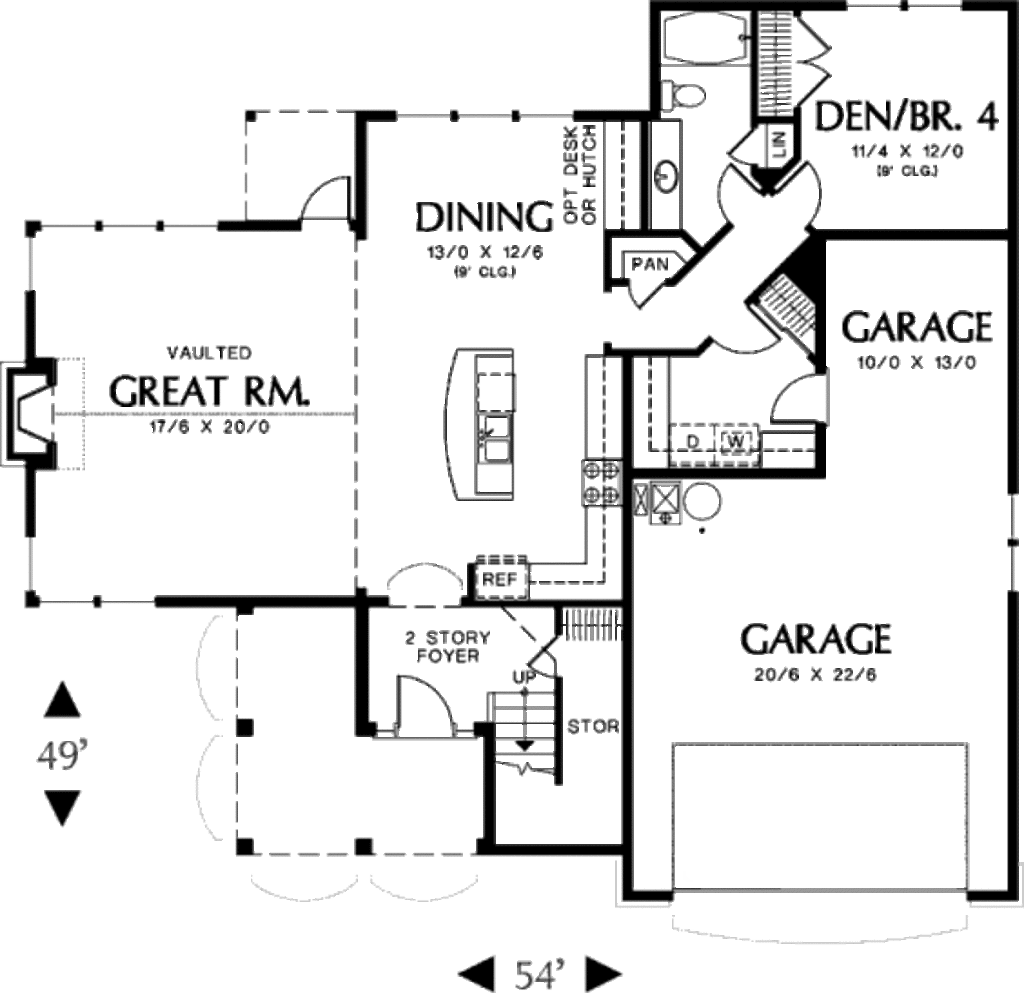door: (387, 674, 476, 752), (773, 152, 837, 244), (699, 300, 790, 359), (764, 365, 849, 426), (297, 164, 355, 242), (713, 158, 770, 232), (793, 14, 837, 108), (626, 274, 670, 314)
kitchen_bar: (444, 336, 526, 503)
large_sink: (652, 71, 722, 120)
small_sink: (652, 123, 687, 236)
stairs: (473, 674, 575, 783)
tub: (658, 9, 770, 67)
twin_sink: (461, 409, 522, 468)
window: (37, 217, 216, 238), (401, 105, 566, 123), (40, 591, 161, 611), (1001, 486, 1024, 591), (847, 2, 955, 17)
